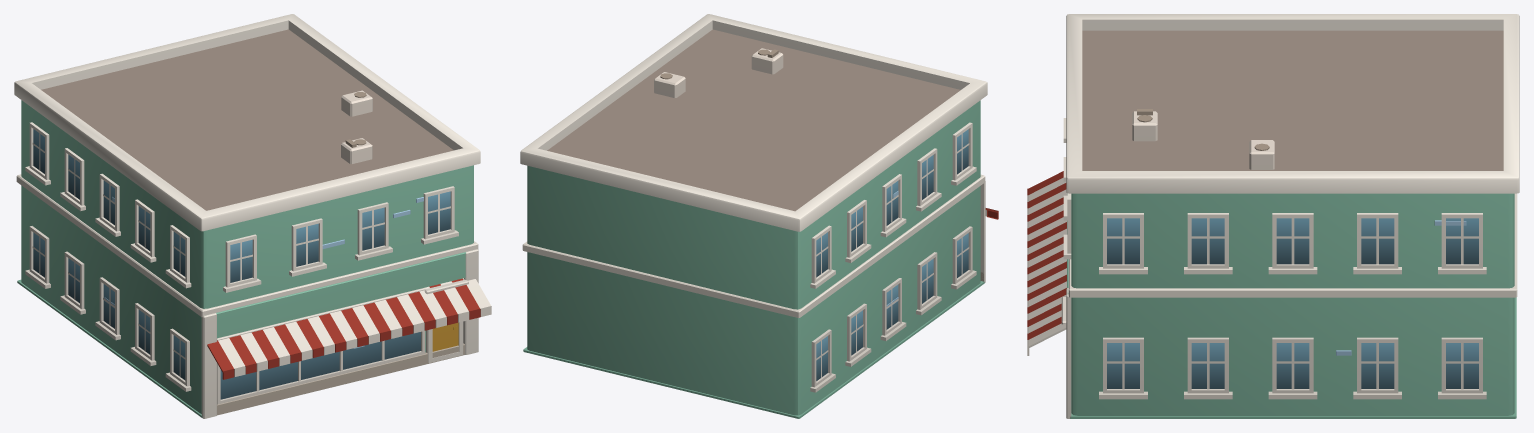
Rendered from boylston_s2.glb.
3 renders of one model, left to right at view 1: azimuth 30°, elevation 25°; view 2: azimuth 150°, elevation 25°; view 3: azimuth 270°, elevation 25°, orthographic. The views are drawn at different scales.
Parts seen in each view (by area): view 1: boylston_s2; view 2: boylston_s2; view 3: boylston_s2.
Part boxes in pixels (x1,y1,x2,y2): boylston_s2: (14, 14, 491, 418); boylston_s2: (520, 14, 998, 418); boylston_s2: (1027, 14, 1519, 418).
Bounding box in the file's own units: 12.48 × 8.79 × 15.55.
Materials: 1 (1 with a texture image).
